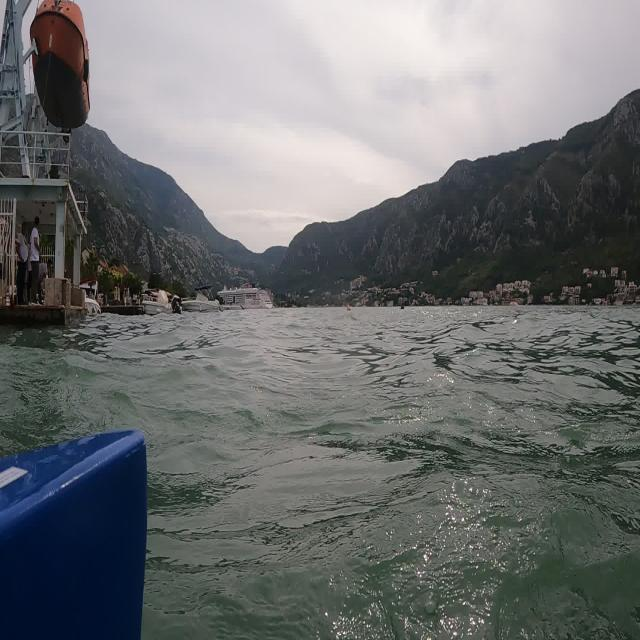boat: (216, 275, 282, 319), (181, 279, 226, 321), (138, 282, 178, 325)
